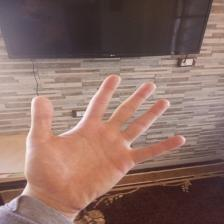five: (29, 74, 188, 196)
